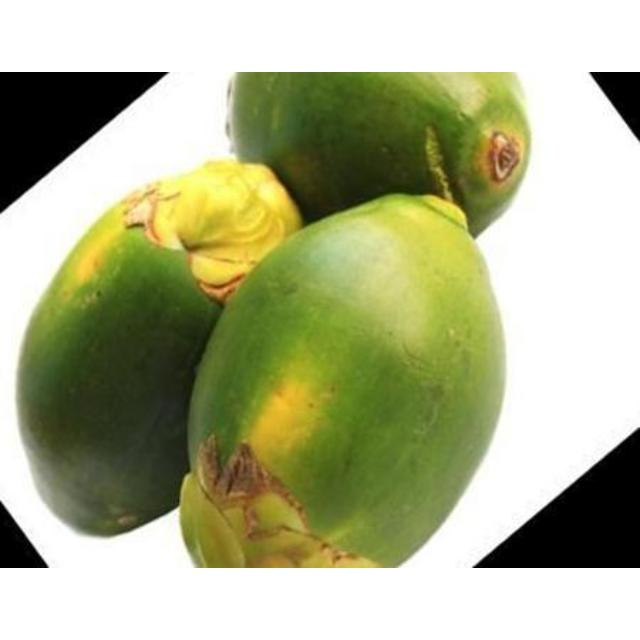good: (178, 194, 509, 567), (17, 160, 303, 538), (226, 72, 533, 238)
